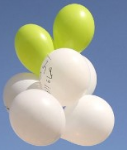Balloon: (8, 88, 63, 146), (63, 94, 114, 148), (41, 48, 86, 102), (53, 3, 95, 55), (14, 24, 51, 76)
